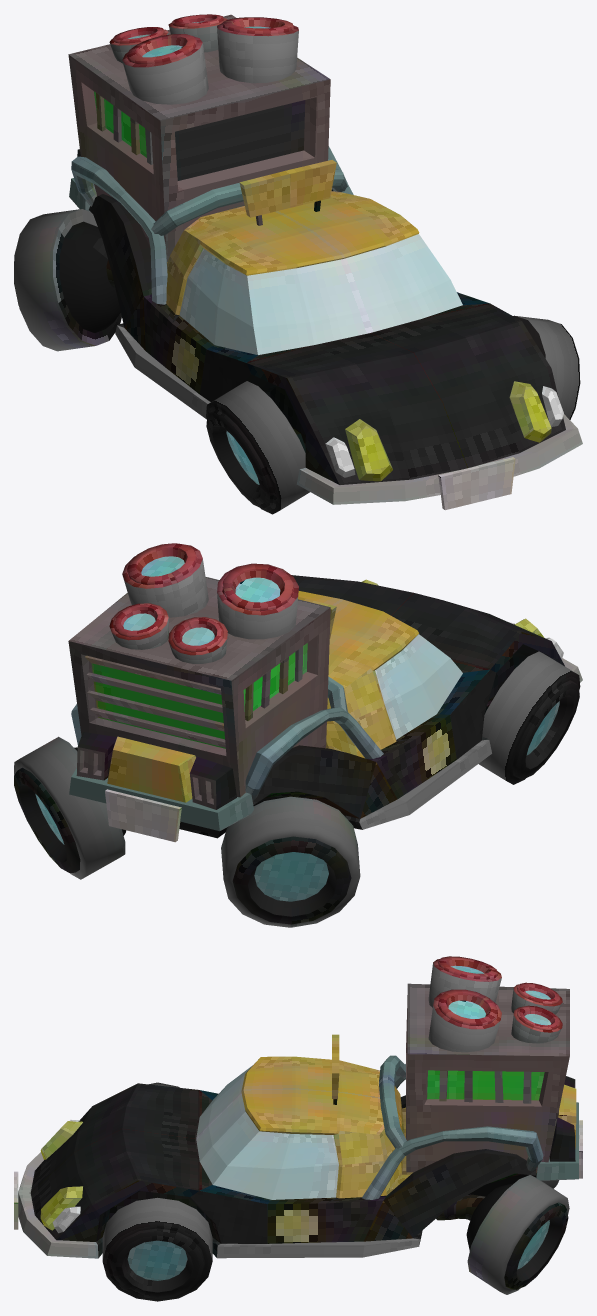
The model's file is Vehiculo.glb.
3 renders of one model, top to bottom at view 1: azimuth 30°, elevation 25°; view 2: azimuth 150°, elevation 25°; view 3: azimuth 270°, elevation 25°, orthographic. The views are drawn at different scales.
Visible parts, largest first — view 1: Carroceria, Cube.031, Cylinder.007, Cylinder.006, Cylinder.010, BézierCurve.001, Cube.040, Cube.039, Cylinder.009; view 2: Carroceria, Cube.031, Cylinder.007, Cylinder.010, Cylinder.006, Cylinder.009, Cube.026, BézierCurve.001, Cube.043, Cube.029, Cube.036; view 3: Carroceria, Cube.031, Cylinder.006, Cylinder.007, Cylinder.010, BézierCurve.001, Cylinder.009, Cube.043, Cube.029, Cylinder.008, Cube.026, Cube.040.
Part boxes in pixels (<box>): Carroceria: <box>89,191,582,504</box>; Cube.031: <box>68,14,330,261</box>; Cylinder.007: <box>14,189,333,351</box>; Cylinder.006: <box>206,315,580,514</box>; Cylinder.010: <box>122,17,298,104</box>; BézierCurve.001: <box>71,146,353,304</box>; Cube.040: <box>239,159,336,225</box>; Cube.039: <box>438,457,515,510</box>; Cylinder.009: <box>109,14,227,63</box>; Carroceria: <box>252,575,582,829</box>; Cube.031: <box>68,577,330,797</box>; Cylinder.007: <box>14,736,360,927</box>; Cylinder.010: <box>122,543,298,639</box>; Cylinder.006: <box>479,651,580,784</box>; Cylinder.009: <box>109,603,227,663</box>; Cube.026: <box>107,736,195,802</box>; BézierCurve.001: <box>71,676,383,800</box>; Cube.043: <box>76,732,236,809</box>; Cube.029: <box>69,768,253,831</box>; Cube.036: <box>105,789,181,842</box>; Carroceria: <box>18,1056,536,1258</box>; Cube.031: <box>406,983,569,1172</box>; Cylinder.006: <box>102,1082,212,1301</box>; Cylinder.007: <box>466,1175,569,1294</box>; Cylinder.010: <box>428,956,501,1052</box>; BézierCurve.001: <box>362,1055,543,1199</box>; Cylinder.009: <box>511,982,562,1043</box>; Cube.043: <box>549,1076,575,1161</box>; Cube.029: <box>536,1102,578,1180</box>; Cylinder.008: <box>436,1194,485,1220</box>; Cube.026: <box>557,1084,576,1148</box>; Cube.040: <box>332,1034,339,1104</box>.
Bounding box in the file's own units: 1.64 × 1.45 × 2.79.
Materials: 1 (1 with a texture image).
